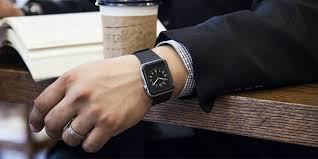clock: (149, 68, 169, 89)
